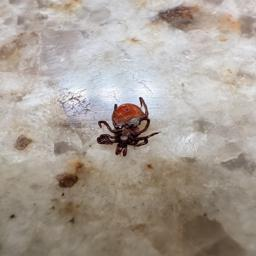Ixodes scapularis: (97, 102, 159, 157)
